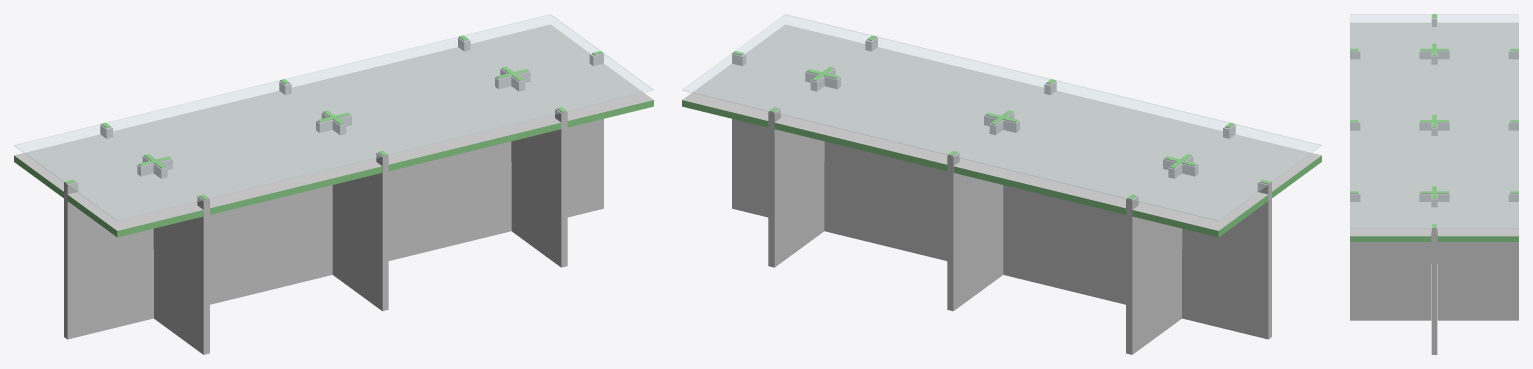
Rendered from 02-dining.glb.
The picture shows the model from 3 angles, left to right: view 1: azimuth 30°, elevation 25°; view 2: azimuth 150°, elevation 25°; view 3: azimuth 270°, elevation 25°; orthographic projection. The views are drawn at different scales.
Visible parts, largest first — view 1: 通长台面｜3000 × 1000 mm, 宴席长桌玻璃｜5.26 mm, 通长纵板｜一体穿榫, 右横撑｜十字插接, 中横撑｜十字插接, 左横撑｜十字插接; view 2: 通长台面｜3000 × 1000 mm, 宴席长桌玻璃｜5.26 mm, 通长纵板｜一体穿榫, 右横撑｜十字插接, 中横撑｜十字插接, 左横撑｜十字插接; view 3: 宴席长桌玻璃｜5.26 mm, 通长台面｜3000 × 1000 mm, 右横撑｜十字插接, 通长纵板｜一体穿榫, 左横撑｜十字插接, 中横撑｜十字插接.
Part boxes in pixels (x1,y1,x2,y2): 通长台面｜3000 × 1000 mm: (14,24,653,237); 宴席长桌玻璃｜5.26 mm: (14,14,653,221); 通长纵板｜一体穿榫: (64,51,603,339); 右横撑｜十字插接: (458,35,567,267); 中横撑｜十字插接: (279,79,388,311); 左横撑｜十字插接: (100,122,209,354); 通长台面｜3000 × 1000 mm: (682,24,1321,237); 宴席长桌玻璃｜5.26 mm: (682,14,1321,221); 通长纵板｜一体穿榫: (732,51,1271,339); 右横撑｜十字插接: (768,35,877,267); 中横撑｜十字插接: (947,79,1056,311); 左横撑｜十字插接: (1126,122,1235,354); 宴席长桌玻璃｜5.26 mm: (1350,14,1518,228); 通长台面｜3000 × 1000 mm: (1350,22,1518,241); 右横撑｜十字插接: (1350,191,1518,320); 通长纵板｜一体穿榫: (1431,14,1437,354); 左横撑｜十字插接: (1350,48,1518,63); 中横撑｜十字插接: (1350,119,1518,135).
Size of the model in its own units: 3 by 0.831 by 1.
